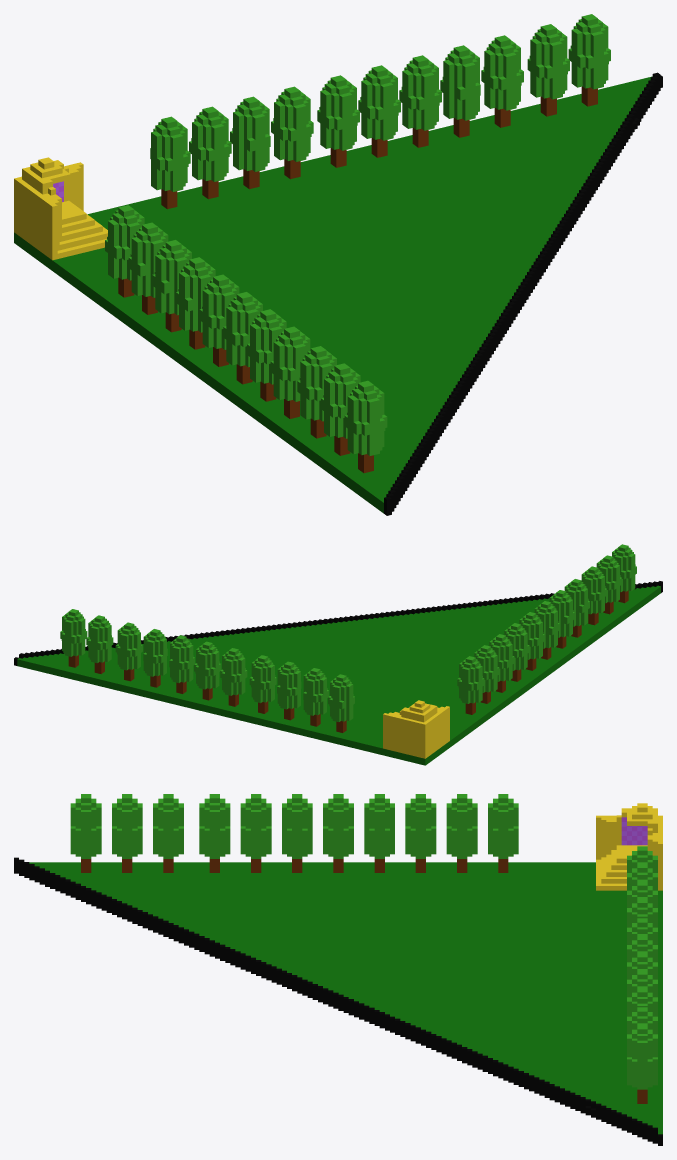
File: EscenarioPoke.obj
3 renders of one model, top to bottom at view 1: azimuth 30°, elevation 25°; view 2: azimuth 150°, elevation 25°; view 3: azimuth 270°, elevation 25°, orthographic. The views are drawn at different scales.
Bounding box in the file's own units: 12.6 × 1.8 × 12.6.
